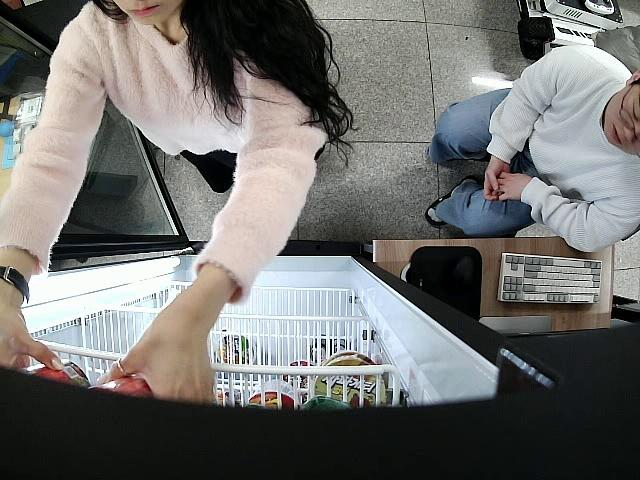00_hand: (96, 307, 217, 402), (0, 298, 68, 374)
